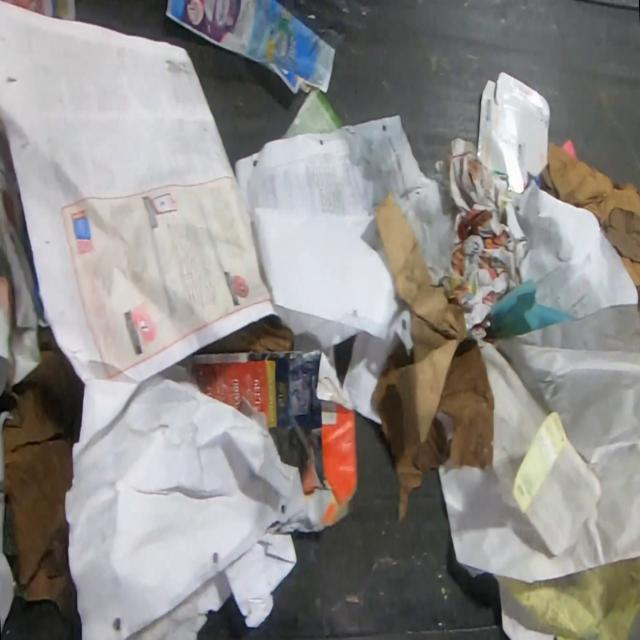cardboard: (184, 348, 358, 535), (374, 188, 474, 455), (0, 323, 84, 623), (370, 338, 495, 524), (540, 138, 640, 288), (475, 68, 551, 195), (194, 316, 294, 353)
